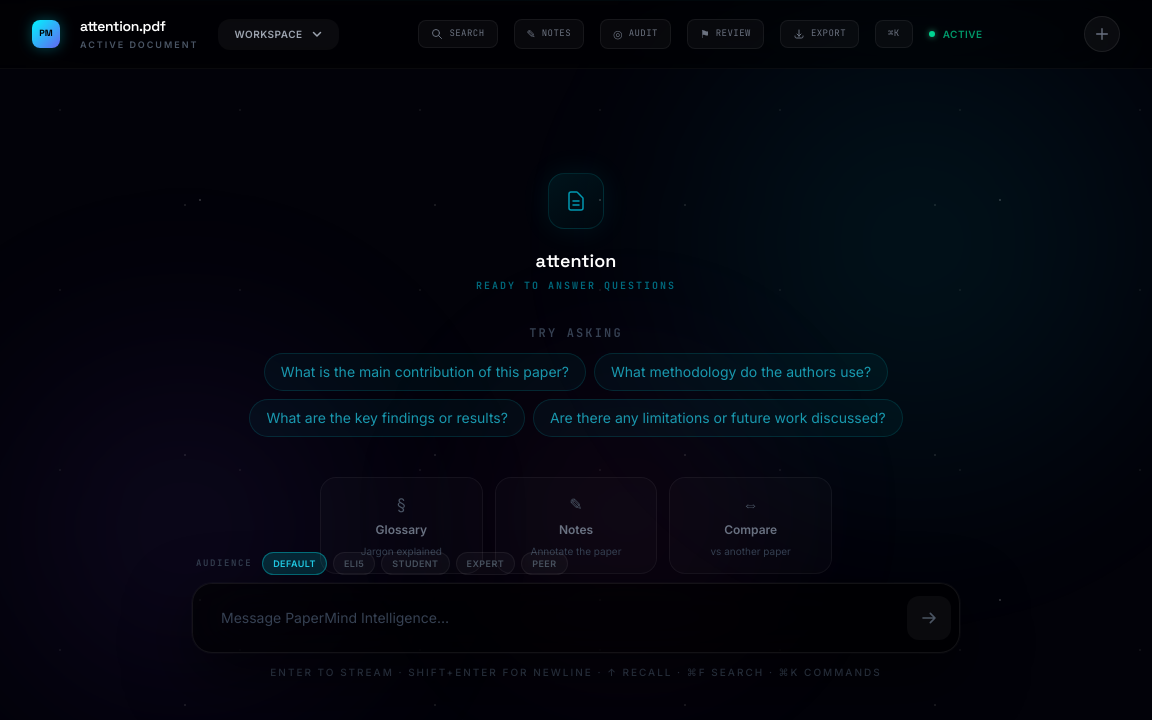
Test: sending a question › renders progress stages as they stream in
This screenshot has width=1152, height=720.
In the text box with placeholder "Message PaperMind Intelligence…": coordinates (550, 618) [201,592,899,644], type "q"
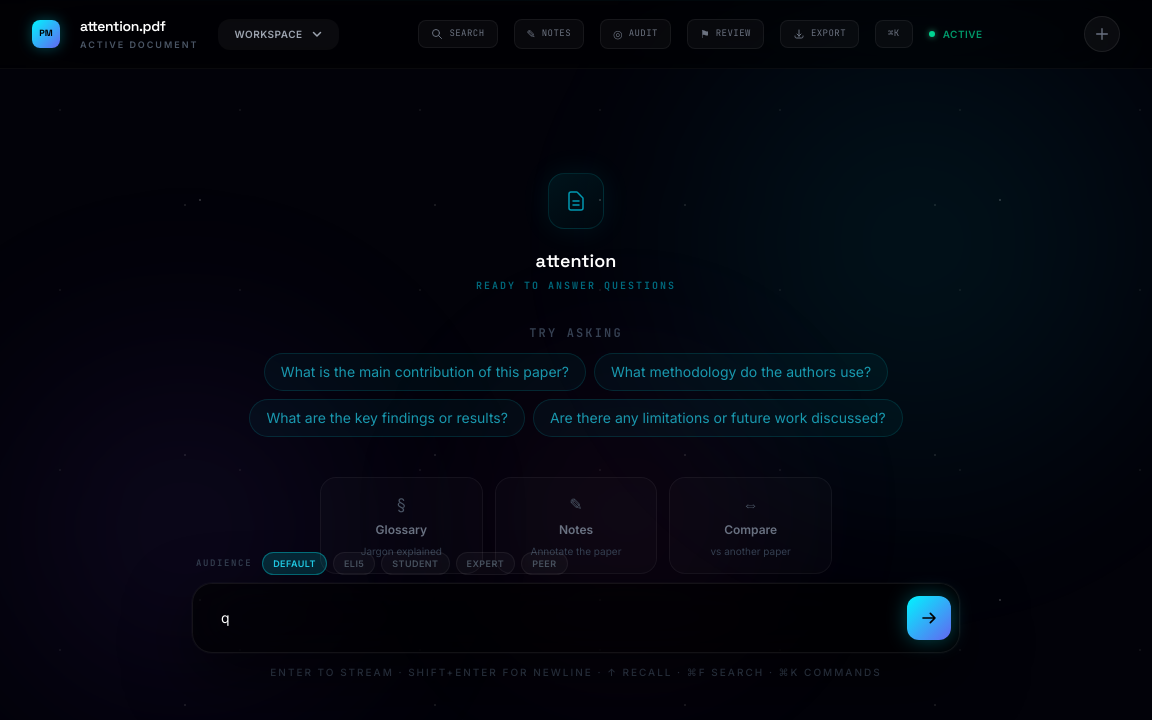
Press Enter
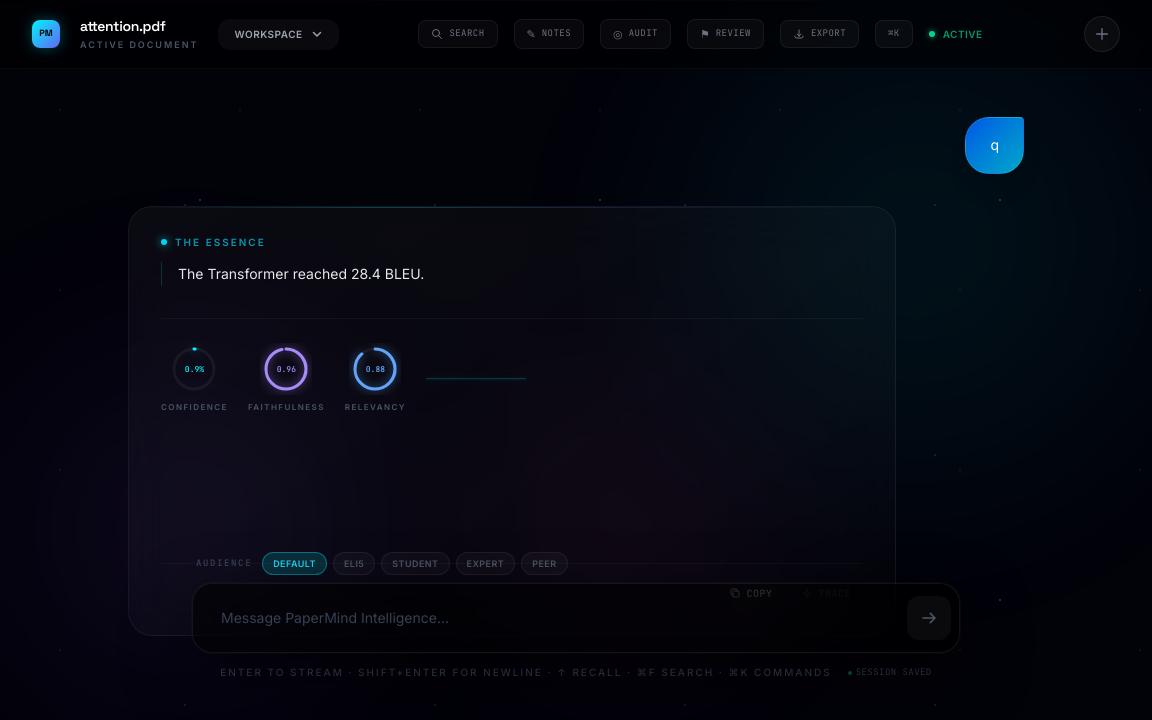
Result: the text "The Transformer reached 28.4 BLEU." is shown at [178,265,424,282]
